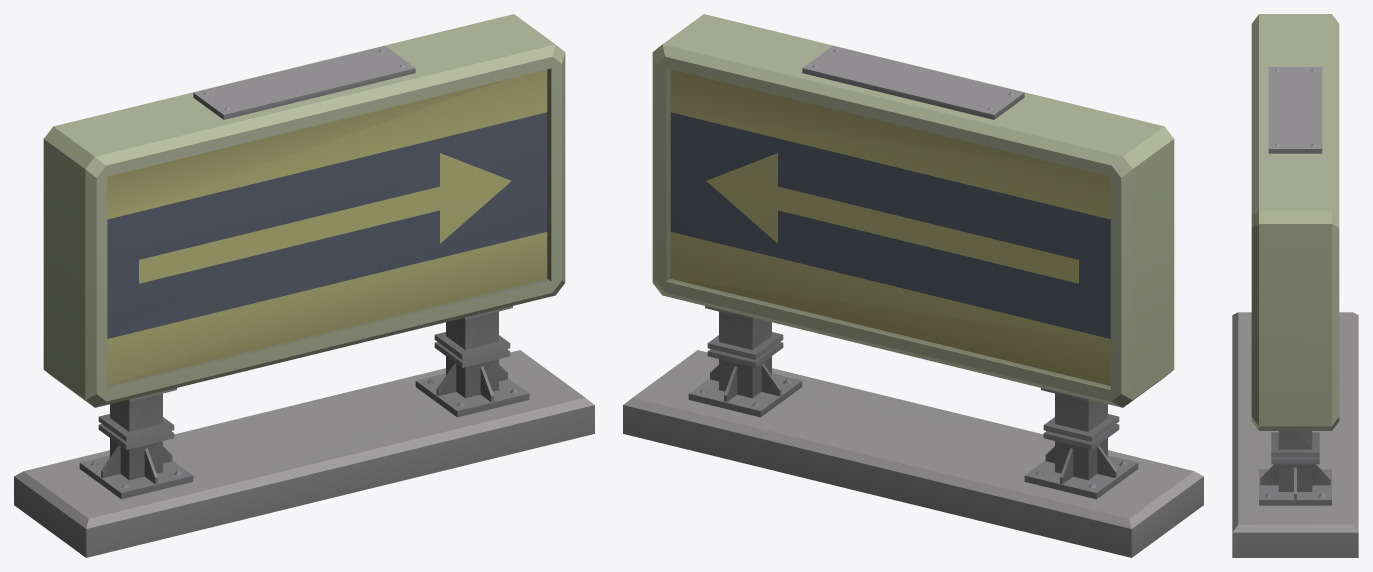
Rendered from twysign.glb.
3 renders of one model, left to right at view 1: azimuth 30°, elevation 25°; view 2: azimuth 150°, elevation 25°; view 3: azimuth 270°, elevation 25°, orthographic. The views are drawn at different scales.
Visible parts, largest first — view 1: twysign; view 2: twysign; view 3: twysign.
Boxes of the visible parts, left/top/right/bottom form: twysign: left=14, top=14, right=594, bottom=557; twysign: left=623, top=14, right=1203, bottom=557; twysign: left=1232, top=14, right=1358, bottom=557.
Bounding box in the file's own units: 2.12 × 1.56 × 0.52.
